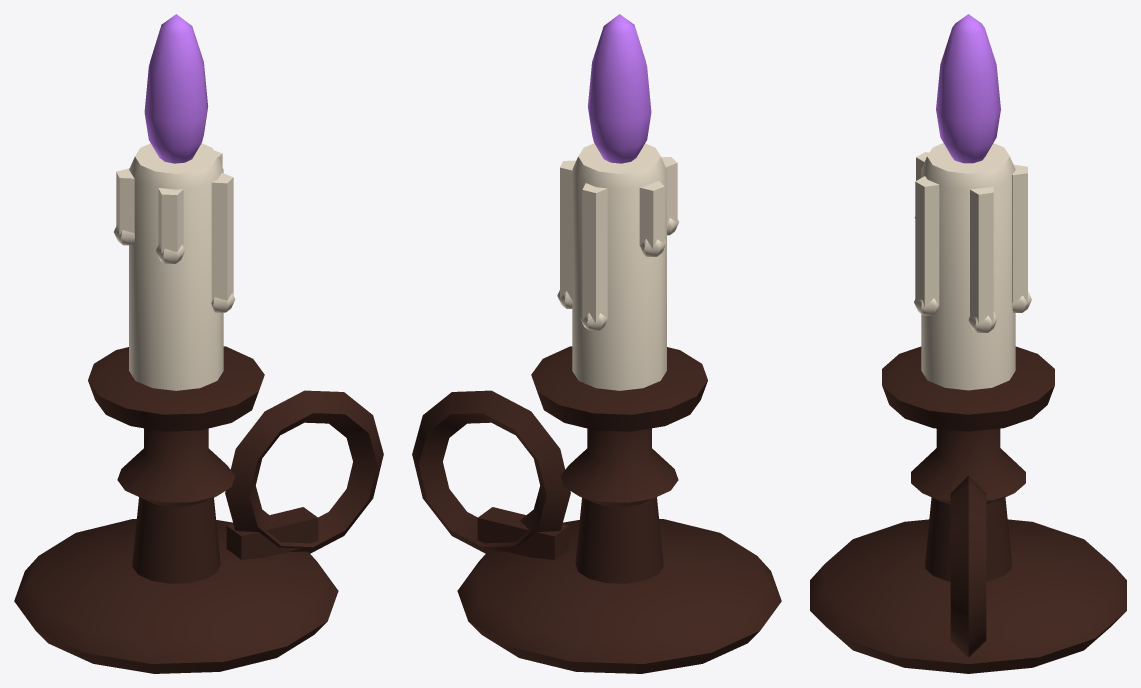
Rendered from Witch_Candle.fbx.
3 renders of one model, left to right at view 1: azimuth 30°, elevation 25°; view 2: azimuth 150°, elevation 25°; view 3: azimuth 270°, elevation 25°, orthographic.
Parts seen in each view (by area): view 1: Witch_Candle_Holder, Witch_Candle_Wax, Witch_Candle_Flame; view 2: Witch_Candle_Holder, Witch_Candle_Wax, Witch_Candle_Flame; view 3: Witch_Candle_Holder, Witch_Candle_Wax, Witch_Candle_Flame.
Part boxes in pixels (x1,y1,x2,y2): Witch_Candle_Holder: [14, 346, 383, 673]; Witch_Candle_Wax: [114, 143, 235, 390]; Witch_Candle_Flame: [144, 14, 208, 163]; Witch_Candle_Holder: [412, 346, 781, 673]; Witch_Candle_Wax: [557, 143, 678, 390]; Witch_Candle_Flame: [587, 14, 651, 163]; Witch_Candle_Holder: [810, 346, 1126, 673]; Witch_Candle_Wax: [914, 143, 1031, 390]; Witch_Candle_Flame: [936, 14, 1000, 163].
Size of the model in its own units: 0.272 by 0.4462 by 0.2145.
